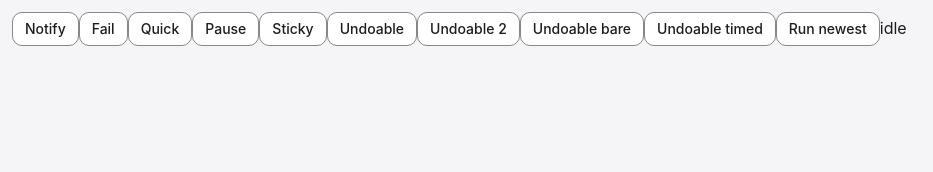
Test: Toast › runNewestAction (the keyboard route to Undo) › reports false when there is nothing to run, so the caller can say so
Click the button "Run newest": point(828, 29) left=776, top=12, right=880, bottom=46
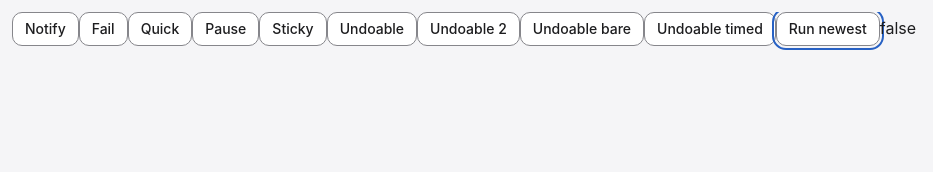
expect the text "false" is shown: met, box left=880, top=18, right=916, bottom=38
